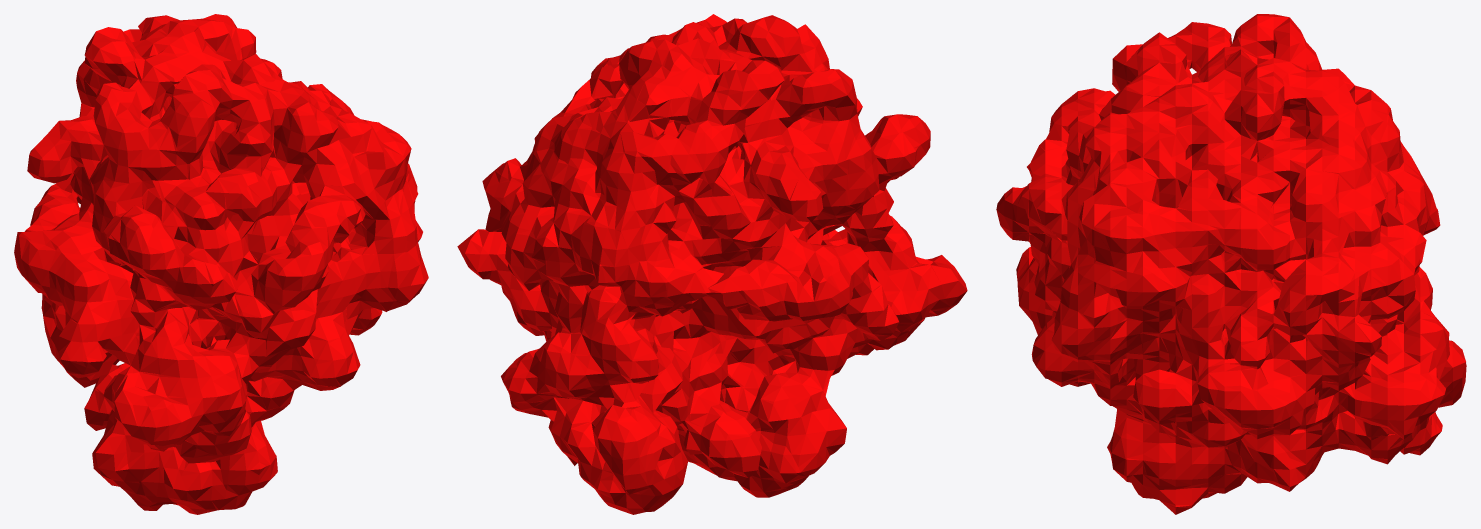
Rendered from der_coarse.dae.
3 renders of one model, left to right at view 1: azimuth 30°, elevation 25°; view 2: azimuth 150°, elevation 25°; view 3: azimuth 270°, elevation 25°, orthographic.
Visible parts, largest first — view 1: der; view 2: der; view 3: der.
Boxes of the visible parts, left/top/right/bottom form: der: left=14, top=14, right=428, bottom=514; der: left=457, top=14, right=967, bottom=514; der: left=996, top=14, right=1466, bottom=514.
Size of the model in its own units: 181 by 223 by 208.
